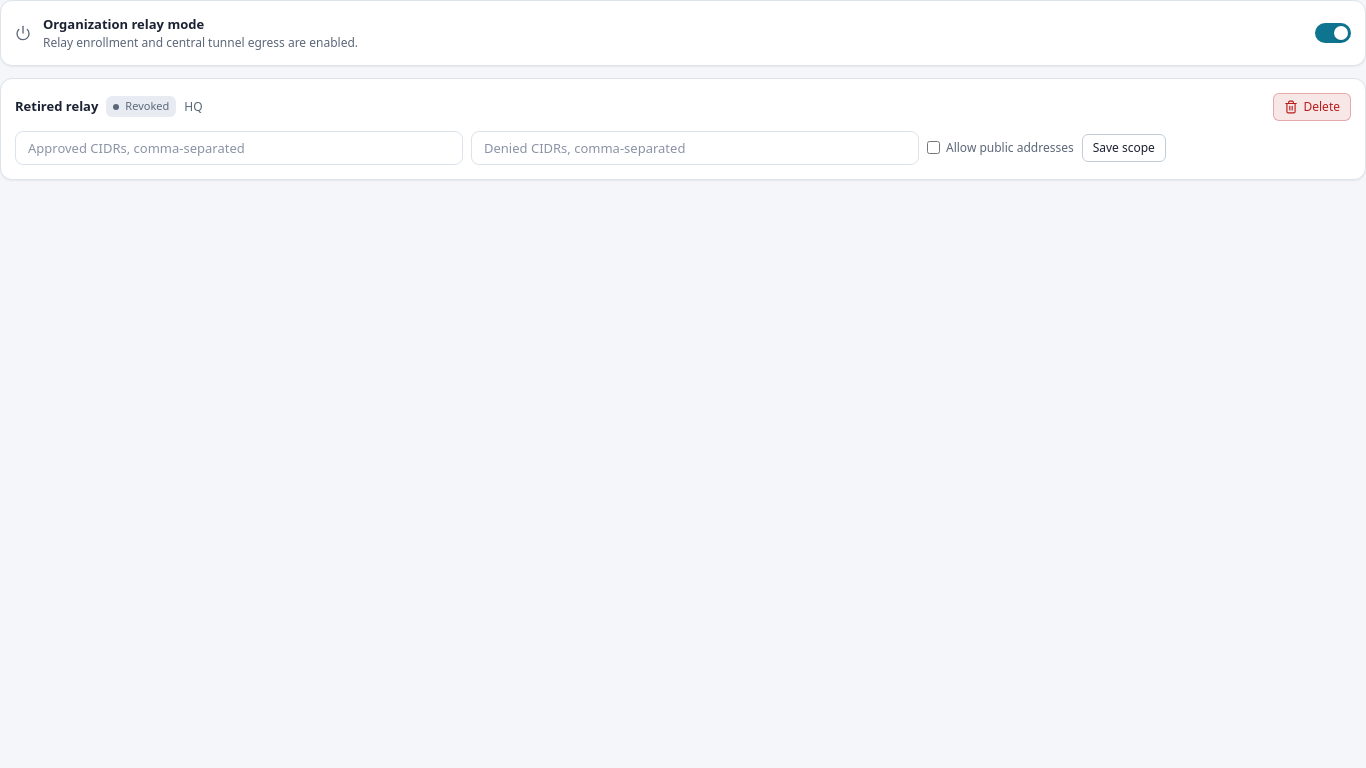
Scenario: RelayPage › permanently deletes a revoked relay after confirmation
Click the button with aria-label "Delete Retired relay".
click(1312, 106)  # box [1272,92,1351,120]
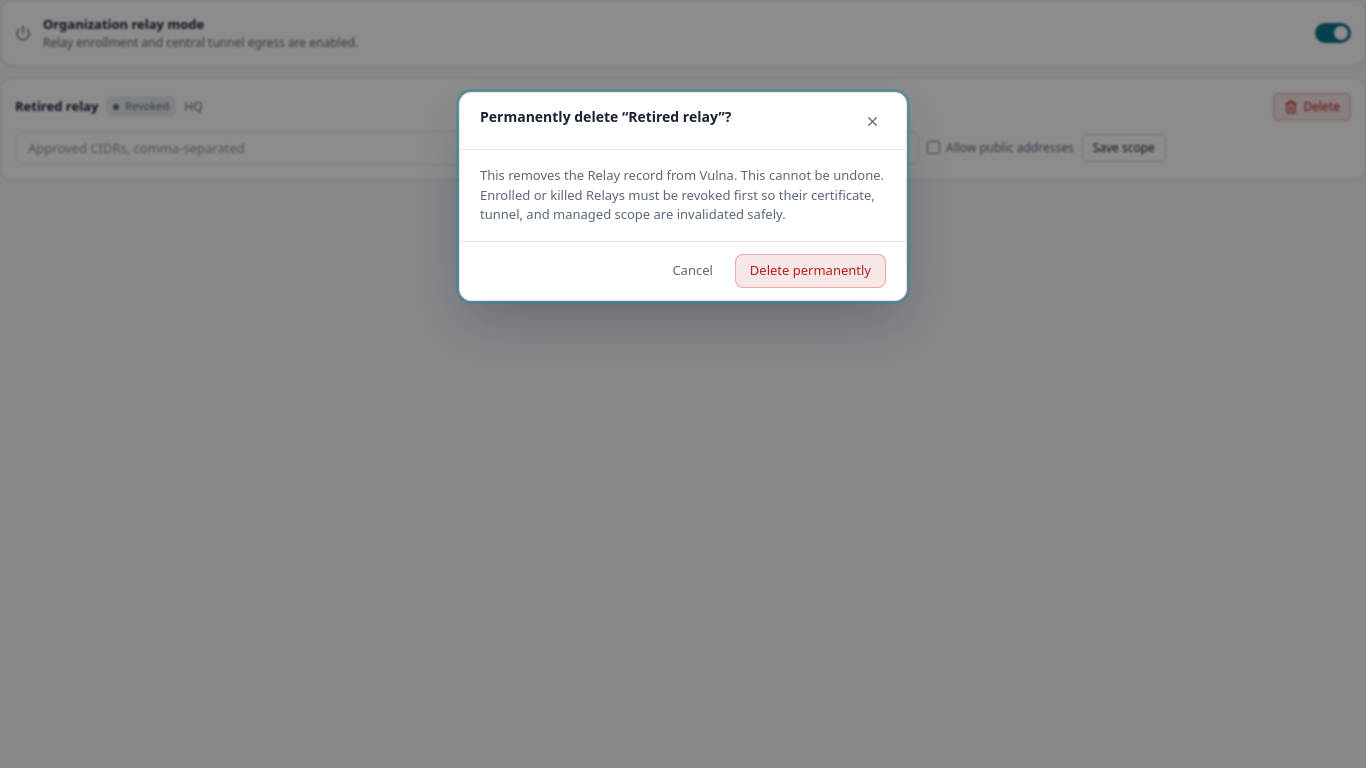
Click the button "Delete permanently".
click(810, 271)  # box [735,254,886,288]
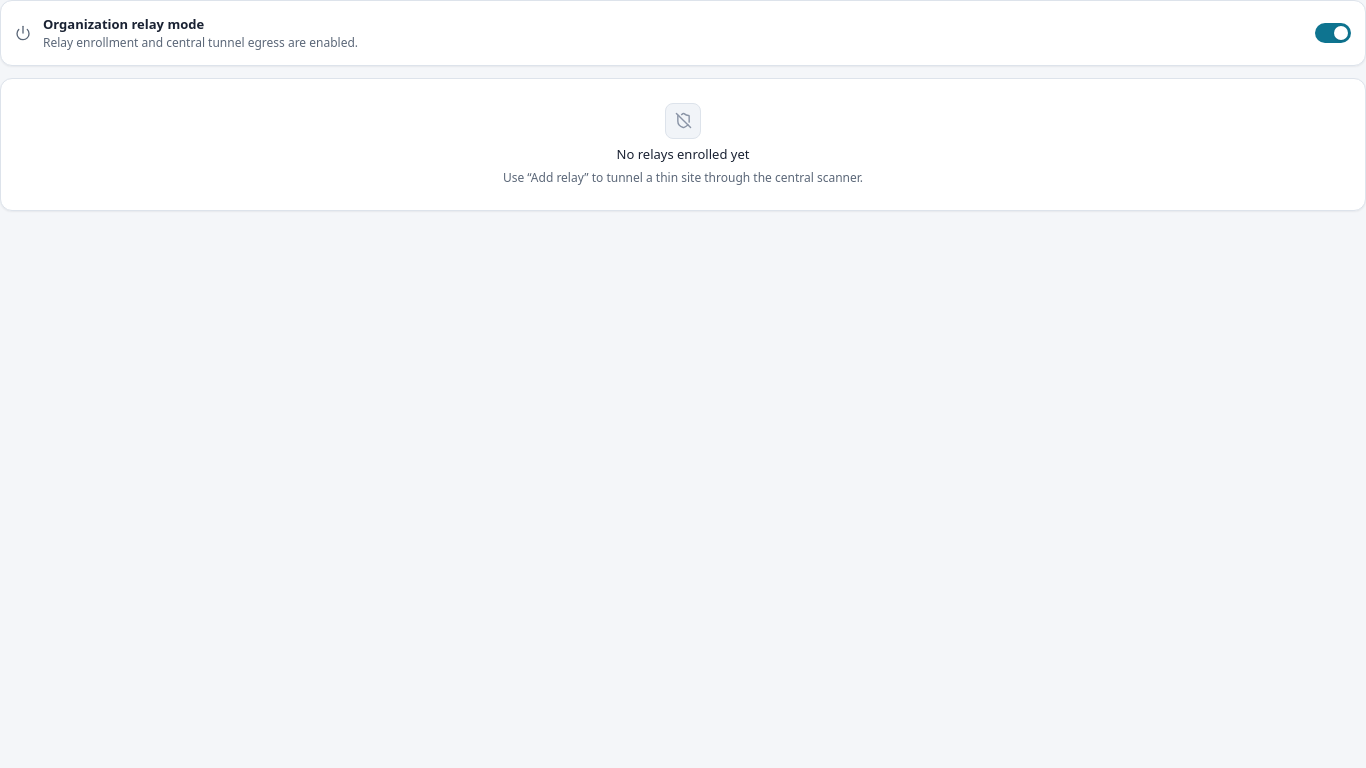
Check: the text "No relays enrolled yet" is shown, box [617,144,750,164]
